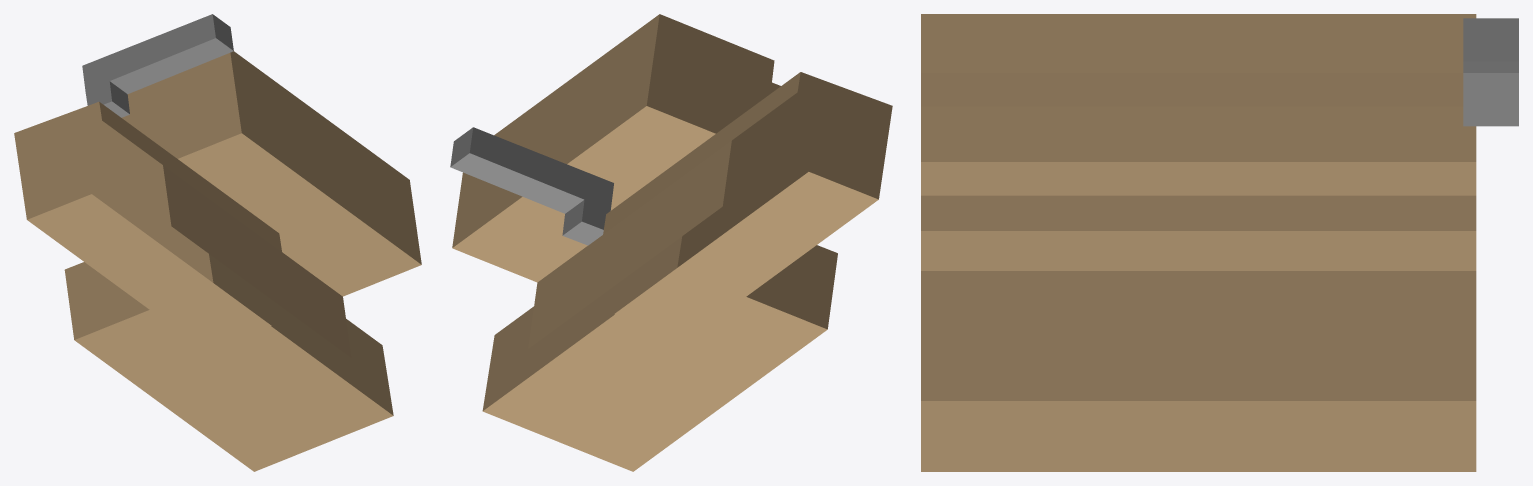
3 views of the same model, side by side, from view 1: azimuth 30°, elevation 25°; view 2: azimuth 150°, elevation 25°; view 3: azimuth 270°, elevation 25° (orthographic). The views are drawn at different scales.
Parts seen in each view (by area): view 1: 0_1_2_0_3_1_2_2_0_1; view 2: 0_1_2_0_3_1_2_2_0_1; view 3: 0_1_2_0_3_1_2_2_0_1.
Boxes of the visible parts, x1,y1,x2,y2 form: 0_1_2_0_3_1_2_2_0_1: (14, 14, 421, 471); 0_1_2_0_3_1_2_2_0_1: (450, 14, 892, 471); 0_1_2_0_3_1_2_2_0_1: (921, 14, 1518, 471).
Size of the model in its own units: 21.9 by 25.64 by 32.3.
